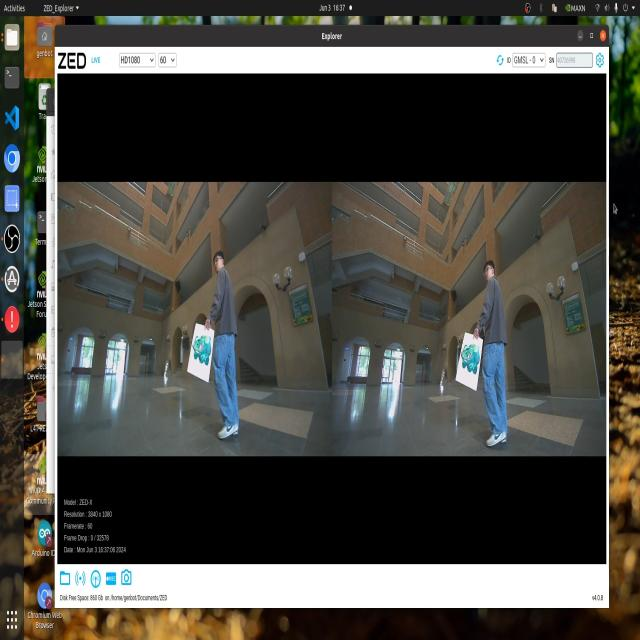green: (192, 329, 219, 370), (461, 344, 486, 385)
